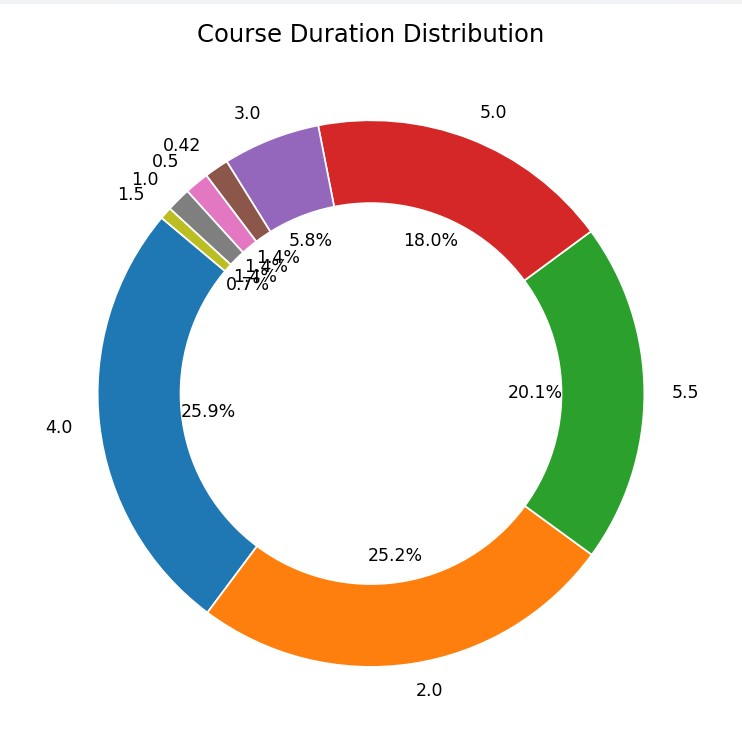

The page's visual inventory and layout, read from the dashboard file:
{"tool":"powerbi","page":{"name":"Donut Chart","canvas":[1280,720],"ordinal":12},"visuals":[{"type":"donutChart","title":"Course Duration Distribution","fields":{"Category":["careers360_colleges.course_duration_years"],"Y":["Count(careers360_colleges.course_name)"]},"box":[203.8,149.4,780.4,466.4],"z":0}]}

Visuals, with their boxes on the page's 1280x720 design canvas (x1, y1, x2, y2). These are canvas units, not pixel positions in the 742x752 screenshot, which may show the page scaled, cropped or inside an application window:
"Course Duration Distribution" donutChart: [left=204, top=149, right=984, bottom=616]
